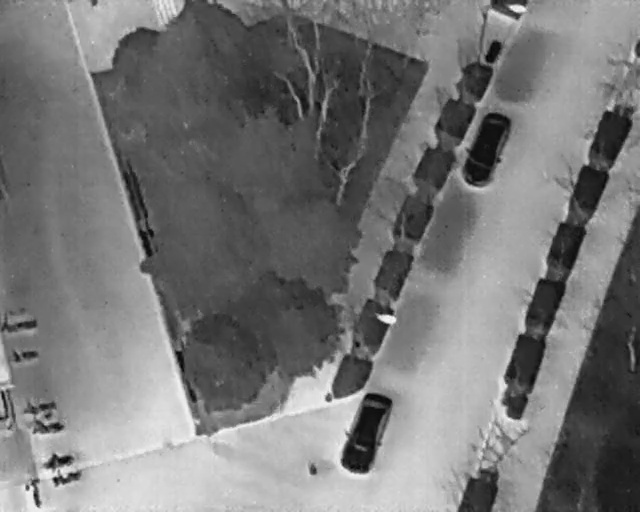Bicycle: (26, 413, 67, 438), (21, 473, 47, 510), (17, 396, 60, 417), (48, 465, 84, 490), (38, 449, 77, 471), (0, 313, 39, 334), (7, 347, 41, 365)
Car: (452, 105, 519, 195), (334, 384, 397, 479)
